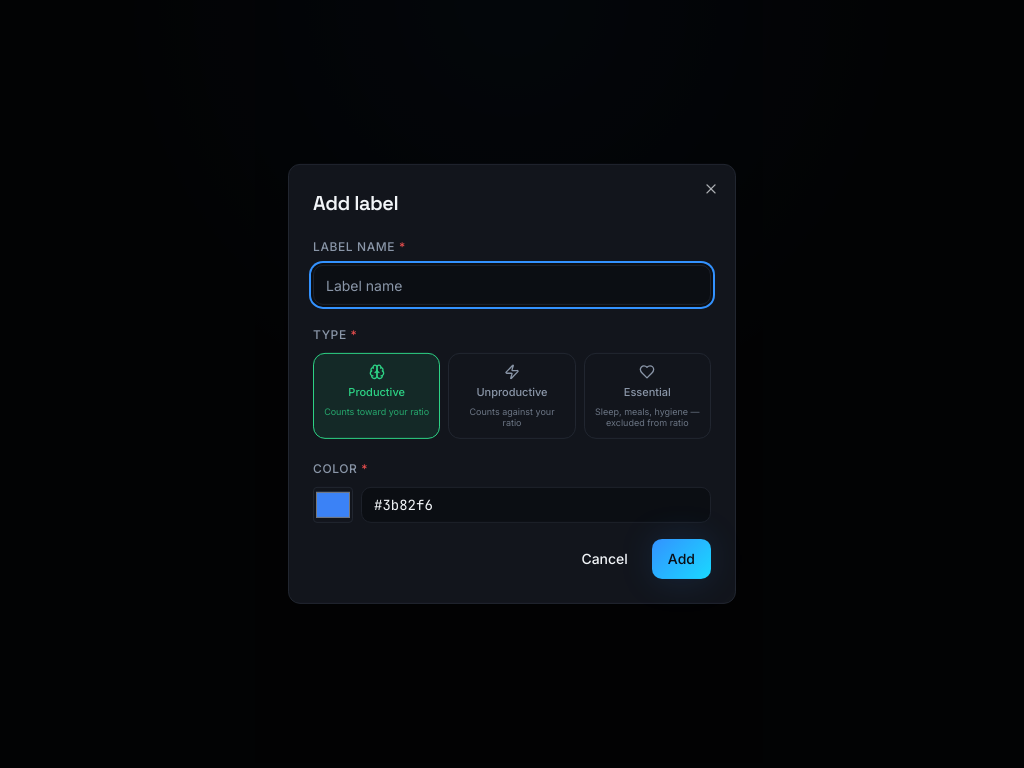
Test: AddLabelDialog › blocks submit and shows a message when the name is empty
This screenshot has width=1024, height=768.
Click the button "Add" at (681, 559), box left=652, top=539, right=711, bottom=579
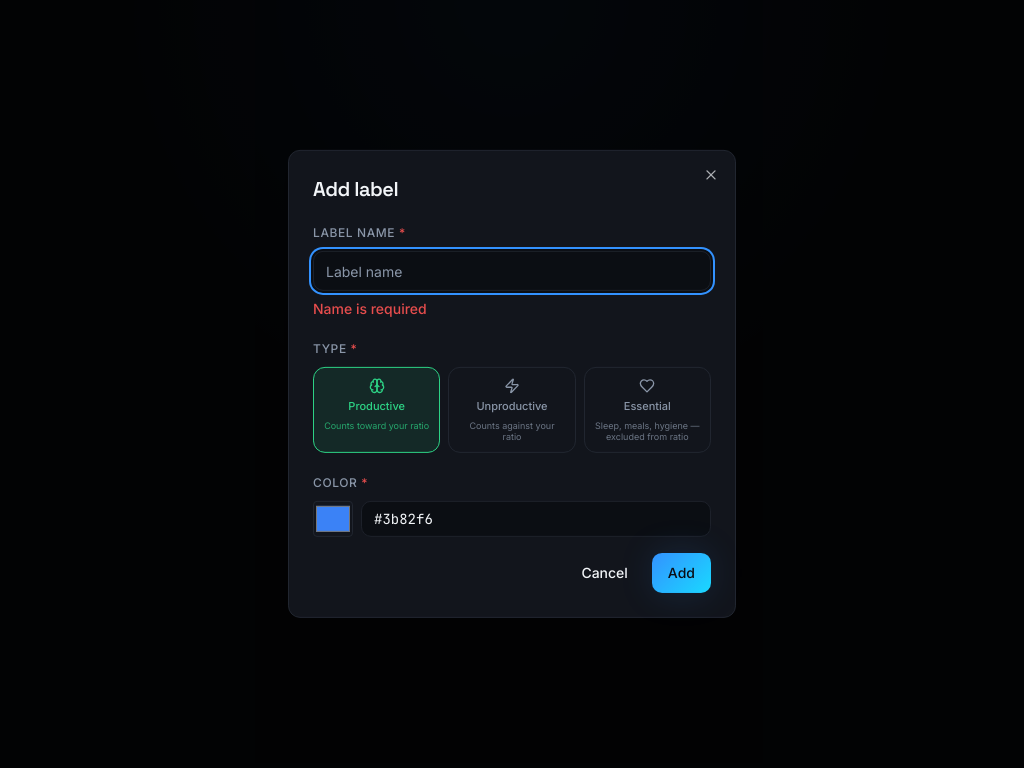
Expected: the text "Name is required" is shown, left=313, top=300, right=427, bottom=317
